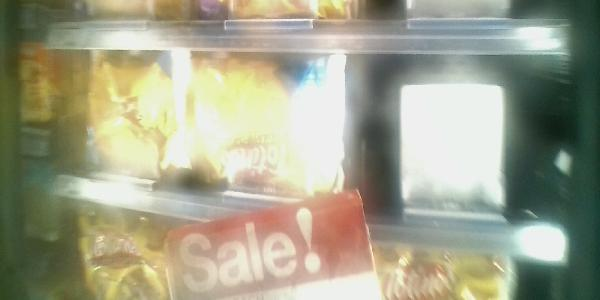icecream: (180, 48, 348, 211), (62, 36, 175, 190)
